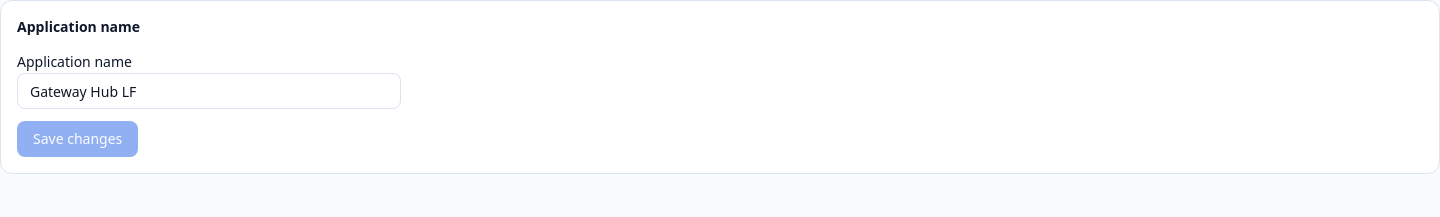
Test: BrandingNameForm › rejects a name containing angle brackets (no HTML allowed)
Replace the text in the field labelled "Application name" with "<b>Gateway</b>" at (209, 91), box x1=17 y1=73 x2=401 y2=109
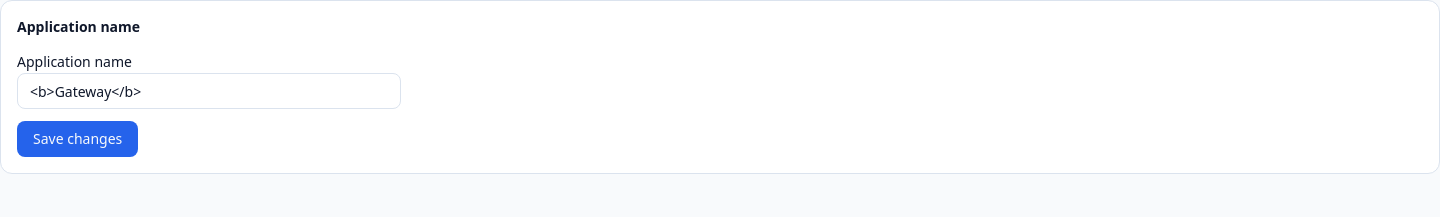
Click the button "Save changes" at (78, 139), box x1=17 y1=121 x2=138 y2=157
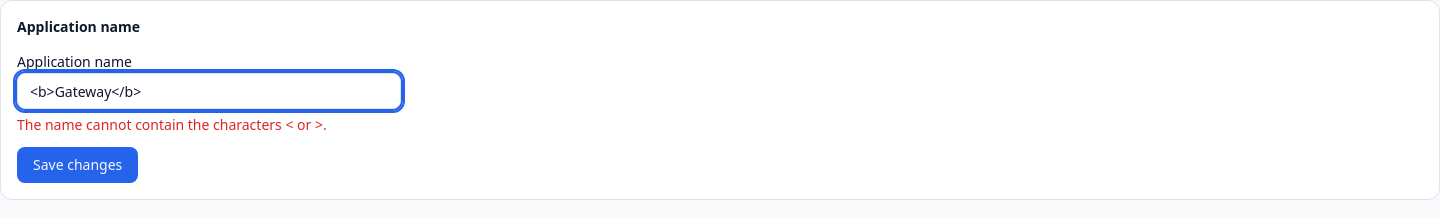
Expected: the text "The name cannot contain the characters < or >." is shown, x1=17 y1=115 x2=327 y2=134
